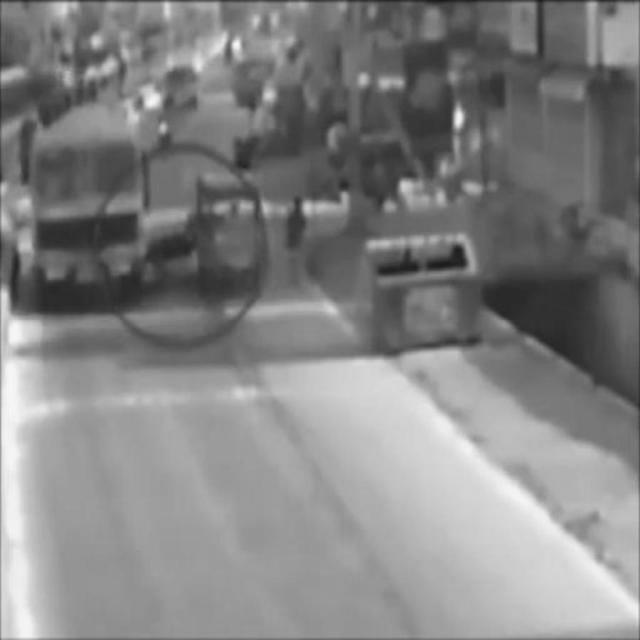accident: (148, 179, 261, 289)
person: (283, 193, 310, 299)
vehicle: (32, 135, 142, 295)
